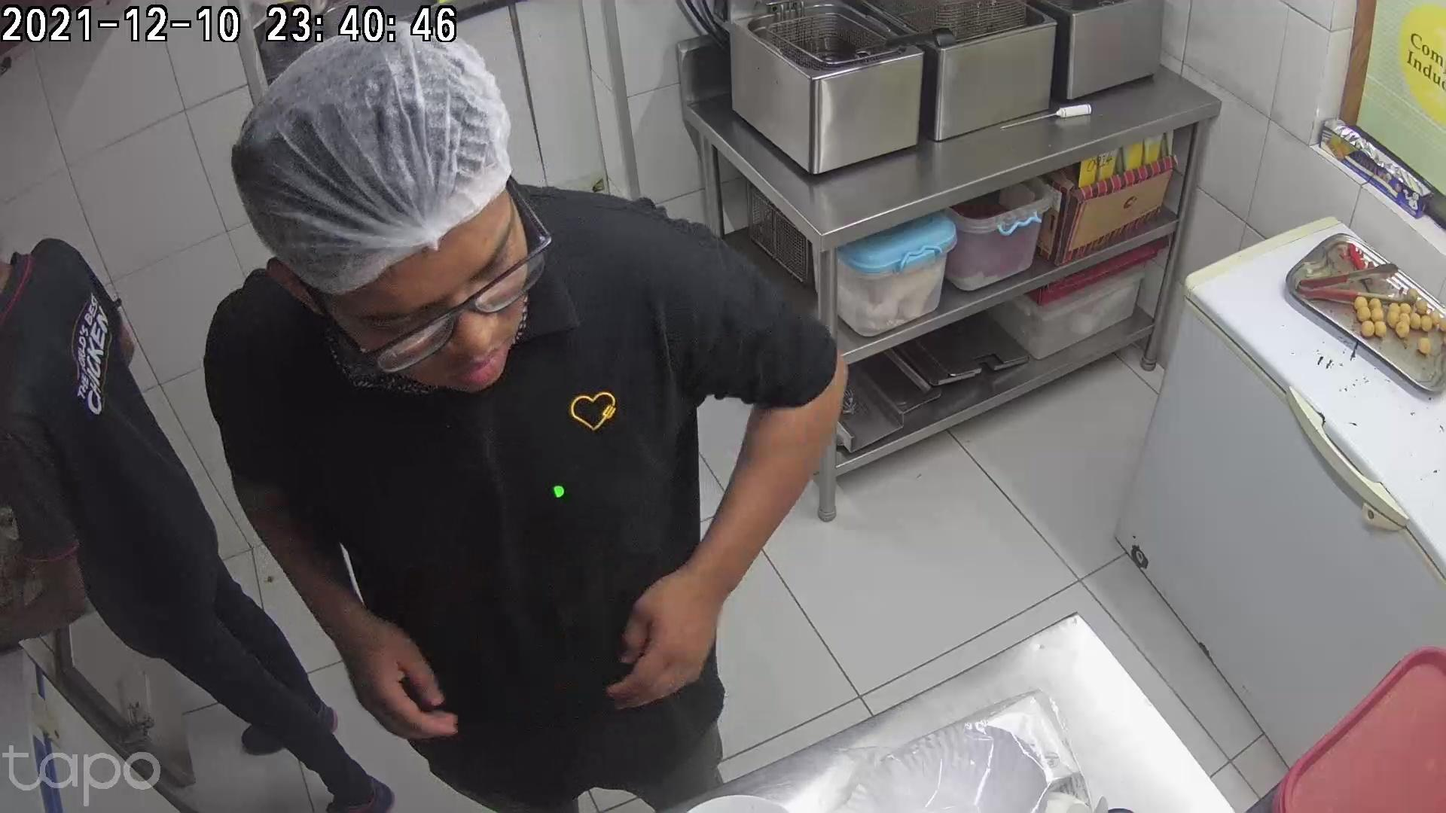no_gloves: (611, 550, 732, 715), (341, 607, 456, 739)
